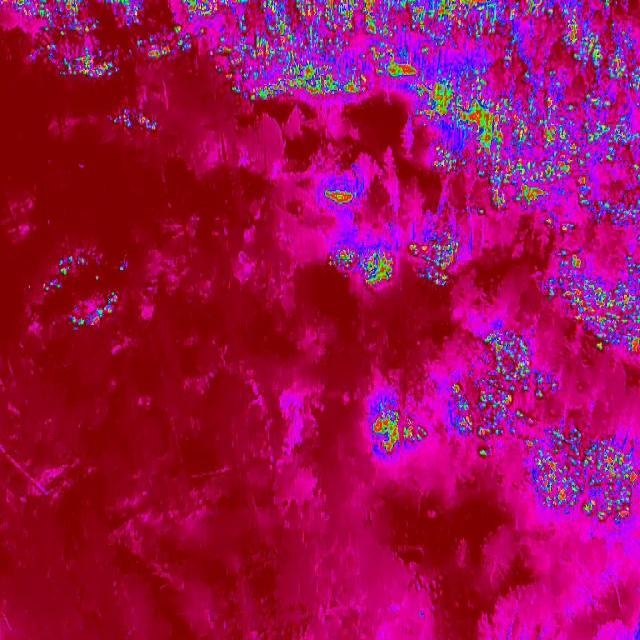fire: (33, 0, 640, 76), (415, 104, 640, 225), (446, 328, 561, 464), (526, 423, 640, 532), (537, 245, 640, 357), (222, 77, 640, 104), (40, 246, 130, 339), (405, 226, 472, 292), (366, 394, 430, 461), (328, 242, 398, 294), (314, 174, 364, 210), (110, 105, 160, 136), (0, 0, 34, 31)
